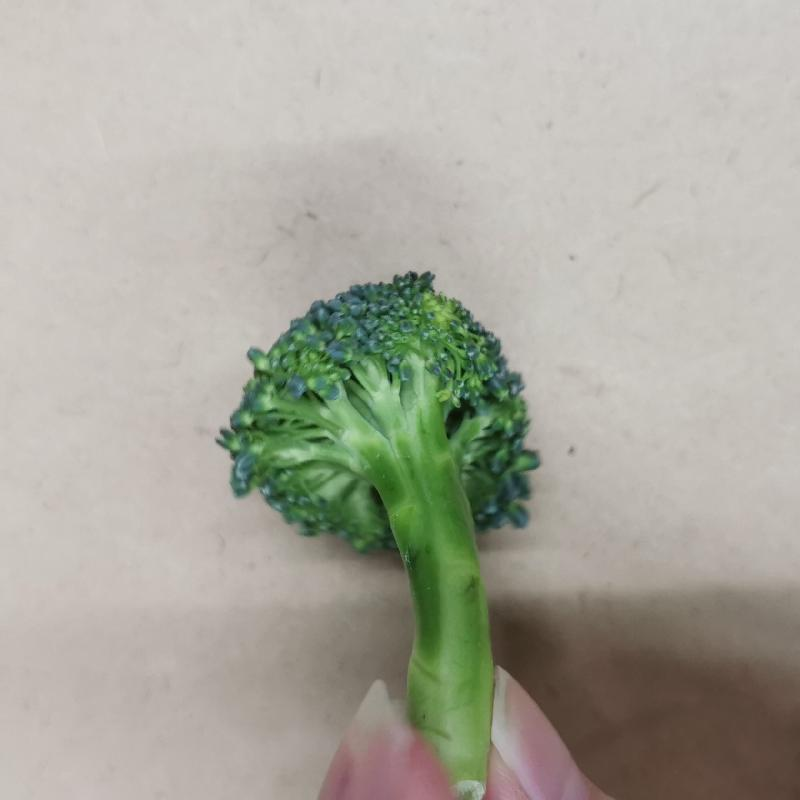broccoli: (212, 263, 540, 800)
